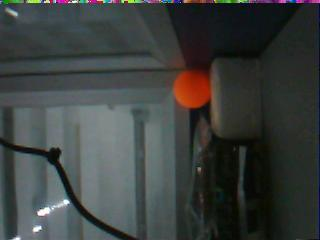oball: (173, 69, 211, 109)
